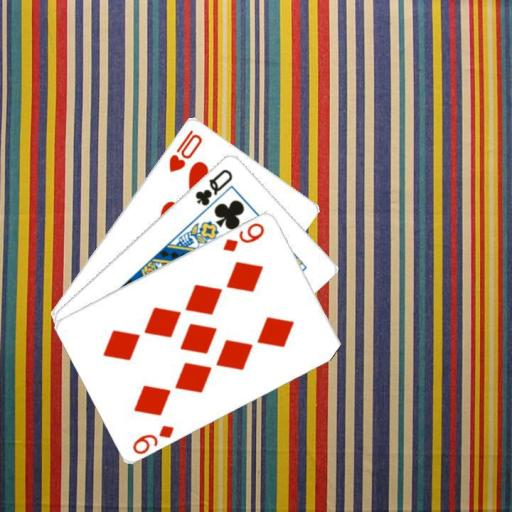10H: (165, 127, 204, 174)
9D: (220, 219, 266, 253), (130, 421, 176, 455)
QC: (192, 165, 235, 208)
